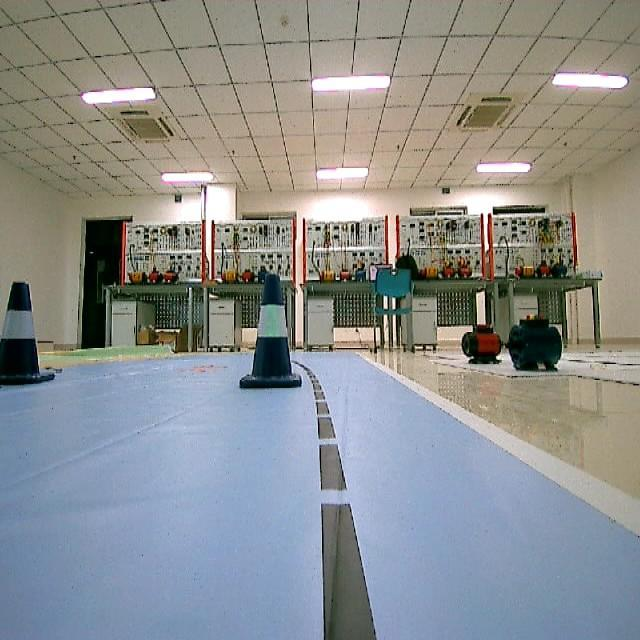obstacle: (231, 271, 305, 390), (0, 273, 73, 381)
